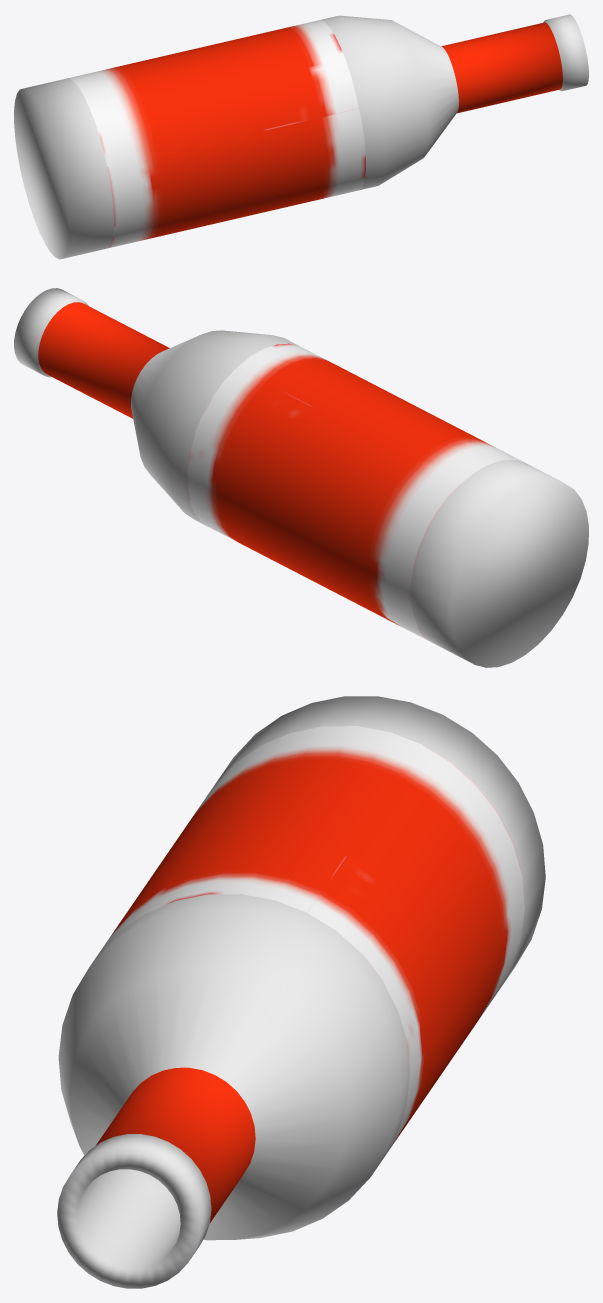
The model's file is Beer bottle.fbx.
3 views of the same model, one above another, from view 1: azimuth 30°, elevation 25°; view 2: azimuth 150°, elevation 25°; view 3: azimuth 270°, elevation 25° (orthographic). The views are drawn at different scales.
Parts seen in each view (by area): view 1: Beer Bottle; view 2: Beer Bottle; view 3: Beer Bottle.
Part boxes in pixels (x1,y1,x2,y2): Beer Bottle: (14, 14, 588, 259); Beer Bottle: (14, 288, 588, 667); Beer Bottle: (57, 696, 545, 1288).
Bounding box in the file's own units: 122 × 44.01 × 51.44.
2 materials, 1 textured.
